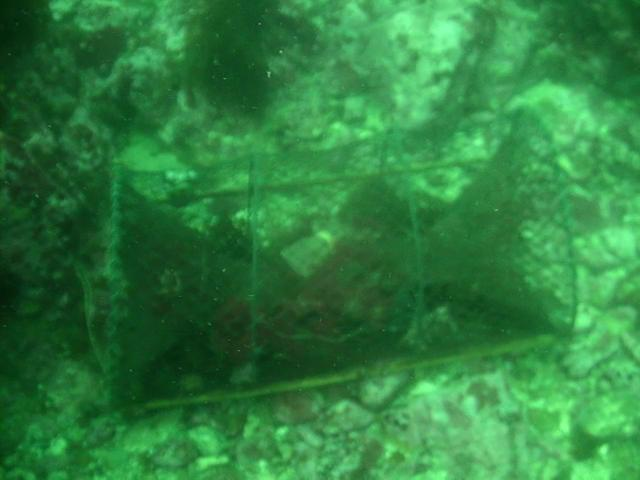spring fish trap: (91, 100, 581, 416)
